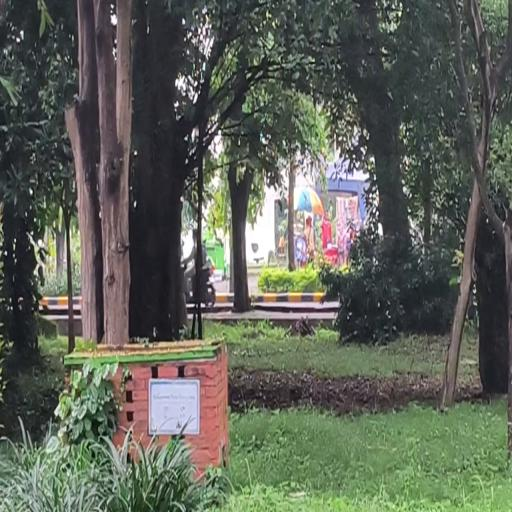Motor: (201, 259, 215, 306)
